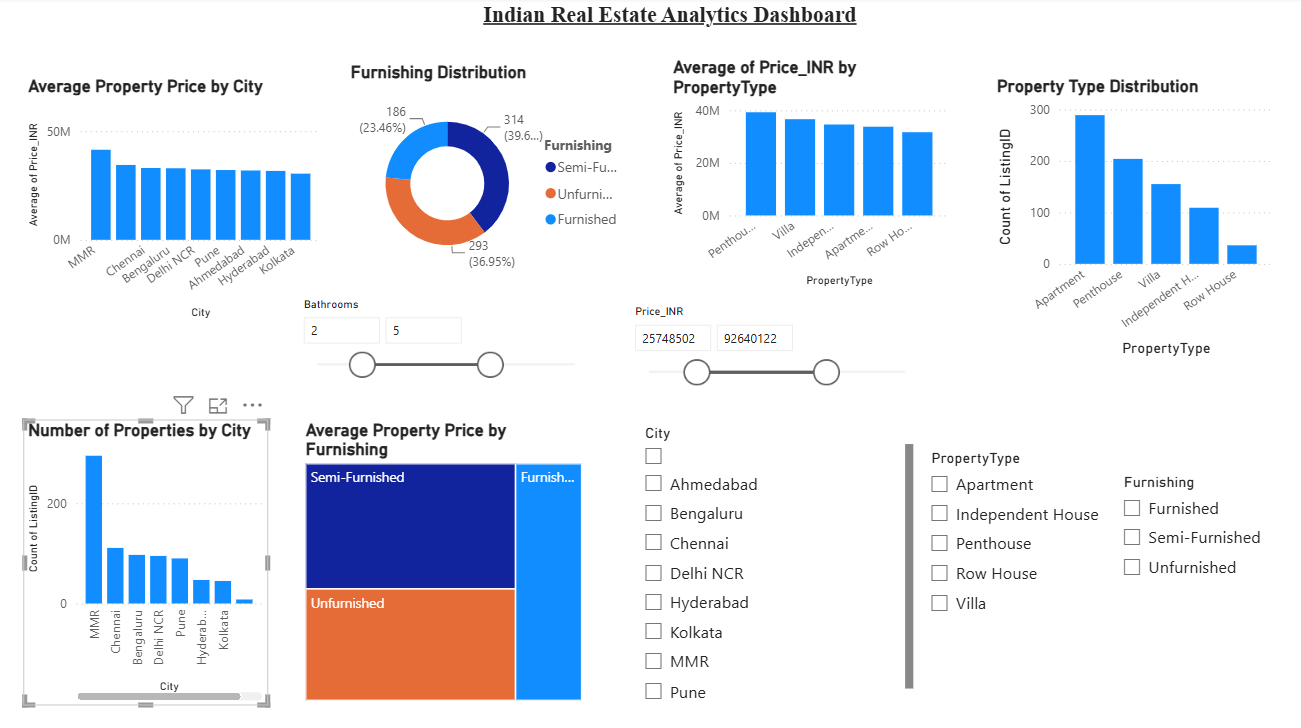

This screenshot's page, from the dashboard's own definition file:
{"tool":"powerbi","page":{"name":"Page 1","canvas":[1280,720],"ordinal":0},"visuals":[{"type":"clusteredColumnChart","title":" Average Property Price by City","fields":{"Category":["Indian_Real_Estate_Cleaned.City"],"Y":["Avg(Indian_Real_Estate_Cleaned.Price_INR)"]},"box":[26.2,77.5,296.2,242.5],"z":0},{"type":"clusteredColumnChart","title":"Number of Properties by City","fields":{"Category":["Indian_Real_Estate_Cleaned.City"],"Y":["CountNonNull(Indian_Real_Estate_Cleaned.ListingID)"]},"box":[26.2,413.8,238.8,280],"z":1000},{"type":"donutChart","title":"Furnishing Distribution","fields":{"Category":["Indian_Real_Estate_Cleaned.Furnishing"],"Y":["CountNonNull(Indian_Real_Estate_Cleaned.RERAID)"]},"box":[341.2,63.8,280,218.8],"z":2000},{"type":"clusteredColumnChart","title":"Property Type Distribution","fields":{"Category":["Indian_Real_Estate_Cleaned.PropertyType"],"Y":["CountNonNull(Indian_Real_Estate_Cleaned.ListingID)"]},"box":[973.8,77.5,280,280],"z":3000},{"type":"clusteredColumnChart","fields":{"Category":["Indian_Real_Estate_Cleaned.PropertyType"],"Y":["Avg(Indian_Real_Estate_Cleaned.Price_INR)"]},"box":[656.2,58.8,280,230],"z":4000},{"type":"treemap","title":"Average Property Price by Furnishing","fields":{"Group":["Indian_Real_Estate_Cleaned.Furnishing"],"Values":["Sum(Indian_Real_Estate_Cleaned.Price_INR)"]},"box":[297.5,413.8,280,280],"z":5000},{"type":"textbox","box":[470.9,0,809.1,59.1],"z":6000},{"type":"slicer","fields":{"Values":["Indian_Real_Estate_Cleaned.City"]},"box":[621.2,413.8,280,280],"z":7000},{"type":"slicer","fields":{"Values":["Indian_Real_Estate_Cleaned.PropertyType"]},"box":[901.2,437.5,188.8,202.5],"z":8000},{"type":"slicer","fields":{"Values":["Indian_Real_Estate_Cleaned.Furnishing"]},"box":[1090,461.2,163.8,126.2],"z":9000},{"type":"slicer","fields":{"Values":["Indian_Real_Estate_Cleaned.Bathrooms"]},"box":[287.5,288.8,300,107.5],"z":10000},{"type":"slicer","fields":{"Values":["Indian_Real_Estate_Cleaned.Price_INR"]},"box":[611.2,296.2,300,92.5],"z":11000}]}

Visuals, with their boxes in screenshot pixels (x1, y1, x2, y2), scaled from the page's 1280x720 canvas onto the 1301x728 screenshot:
" Average Property Price by City" clusteredColumnChart: (left=27, top=78, right=328, bottom=324)
"Number of Properties by City" clusteredColumnChart: (left=27, top=418, right=269, bottom=702)
"Furnishing Distribution" donutChart: (left=347, top=65, right=631, bottom=286)
"Property Type Distribution" clusteredColumnChart: (left=990, top=78, right=1274, bottom=361)
clusteredColumnChart - Indian_Real_Estate_Cleaned.PropertyType x Avg(Indian_Real_Estate_Cleaned.Price_INR): (left=667, top=59, right=952, bottom=292)
"Average Property Price by Furnishing" treemap: (left=302, top=418, right=587, bottom=702)
textbox: (left=479, top=0, right=1300, bottom=60)
slicer - Indian_Real_Estate_Cleaned.City: (left=631, top=418, right=916, bottom=702)
slicer - Indian_Real_Estate_Cleaned.PropertyType: (left=916, top=442, right=1108, bottom=647)
slicer - Indian_Real_Estate_Cleaned.Furnishing: (left=1108, top=466, right=1274, bottom=594)
slicer - Indian_Real_Estate_Cleaned.Bathrooms: (left=292, top=292, right=597, bottom=401)
slicer - Indian_Real_Estate_Cleaned.Price_INR: (left=621, top=299, right=926, bottom=393)
